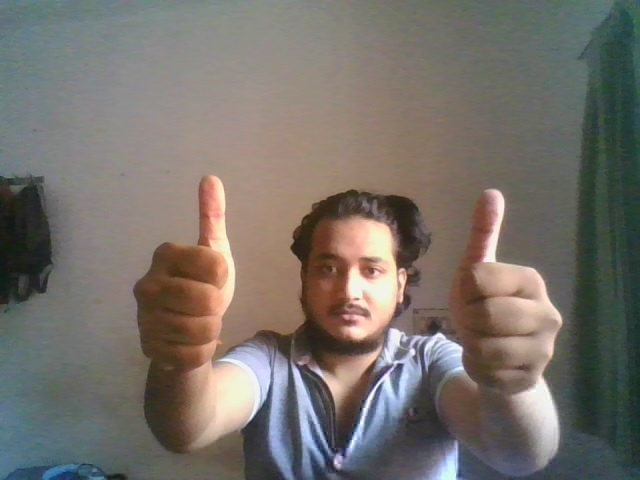ThumbsUp: (447, 185, 560, 397), (132, 173, 237, 370)
